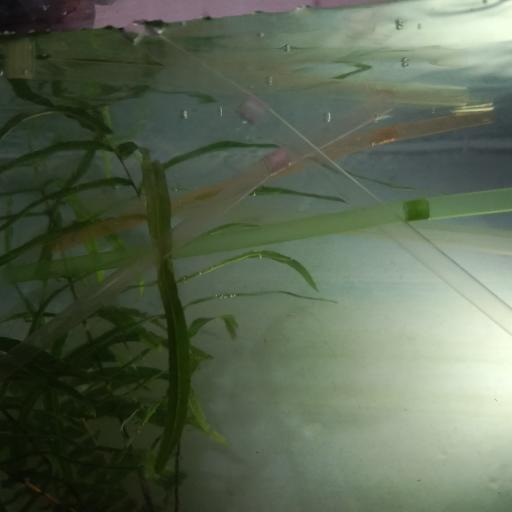plastic_straw: (135, 28, 512, 337), (0, 101, 392, 390), (41, 100, 497, 252), (0, 184, 512, 288), (1, 37, 471, 108)
